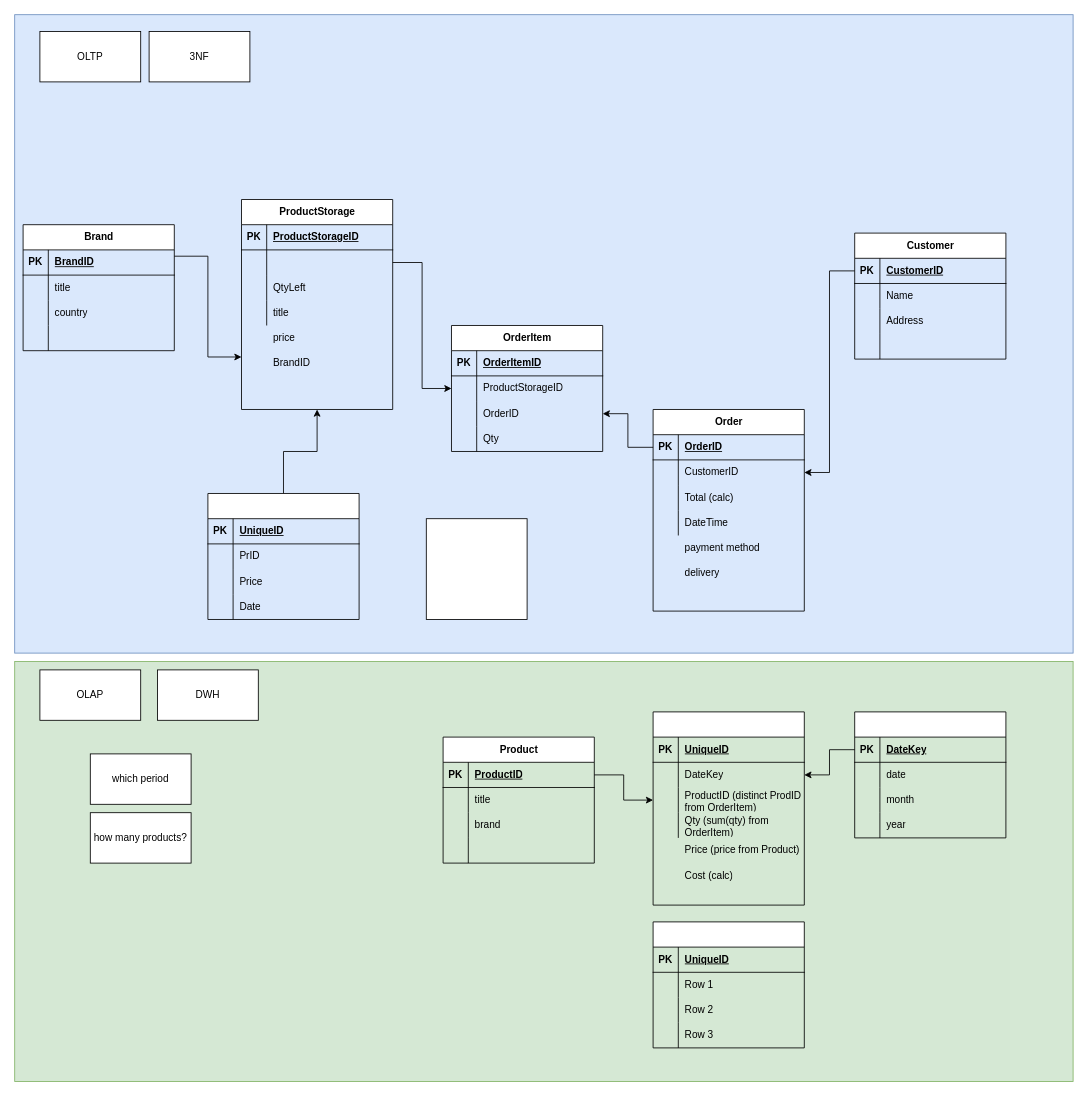
Image size: 1088x1096. Some labels were removed from this diagram. Each missing label, with the box of its shape:
Date_Dim (generated): (854, 711, 1006, 838)
Fact_Customer_Purchase: (652, 921, 804, 1048)
Fact_Product_Sales: (652, 711, 804, 905)
group by extract(month from datetime), extract(year from datetime): (425, 518, 527, 620)
ProductPrice: (207, 493, 359, 620)
